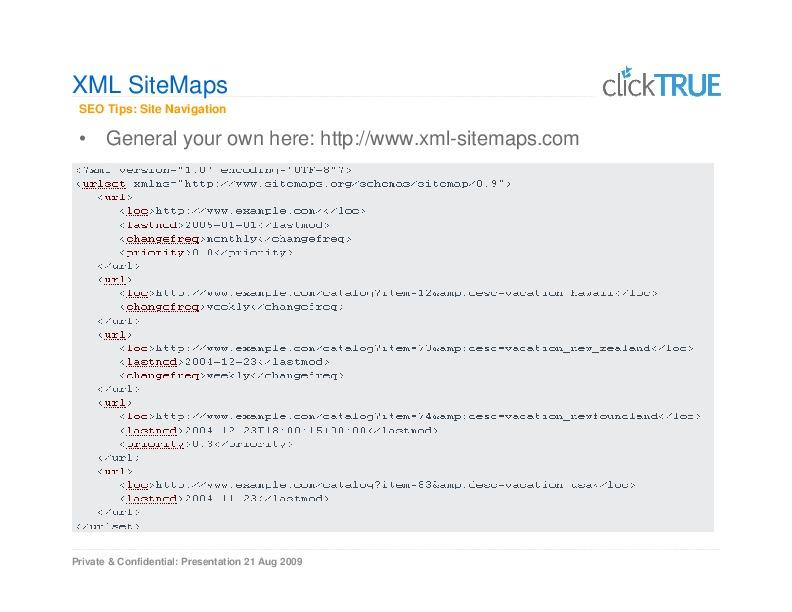paragraph: (72, 124, 758, 537)
title: (64, 59, 271, 119)
